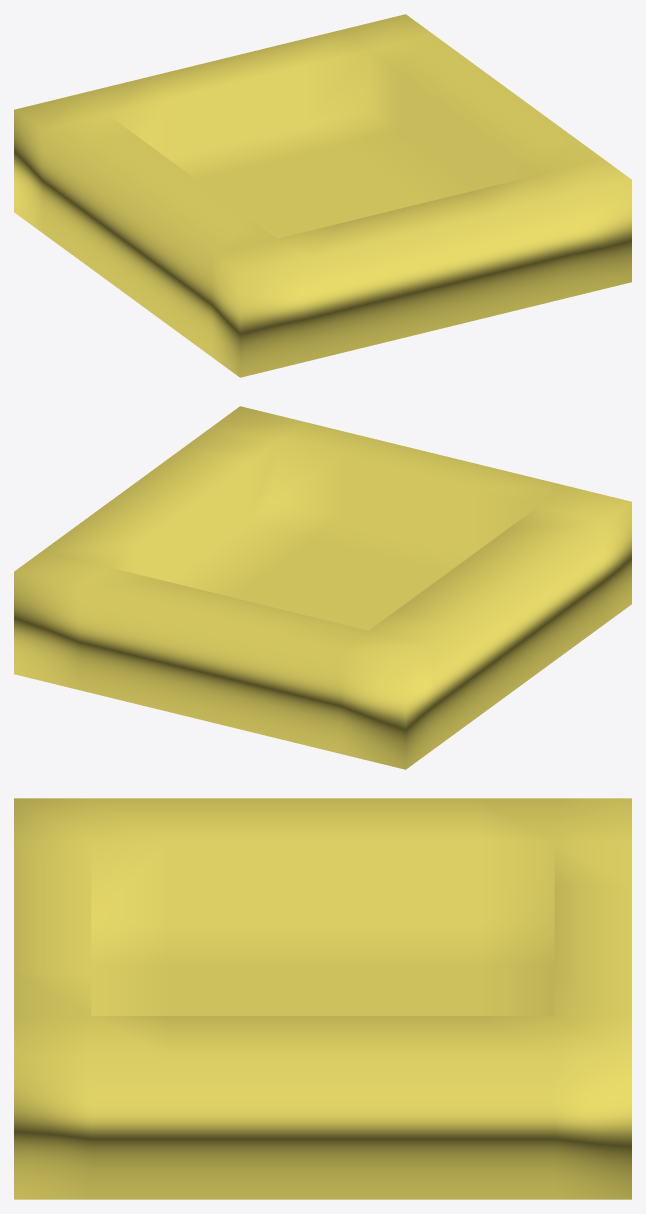
File: tina1.fbx
3 renders of one model, top to bottom at view 1: azimuth 30°, elevation 25°; view 2: azimuth 150°, elevation 25°; view 3: azimuth 270°, elevation 25°, orthographic. The views are drawn at different scales.
Visible parts, largest first — view 1: Cube; view 2: Cube; view 3: Cube.
Boxes of the visible parts, <box> form: Cube: <box>14,14,631,377</box>; Cube: <box>14,406,631,769</box>; Cube: <box>14,798,631,1199</box>.
Bounding box in the file's own units: 200 × 50 × 200.
